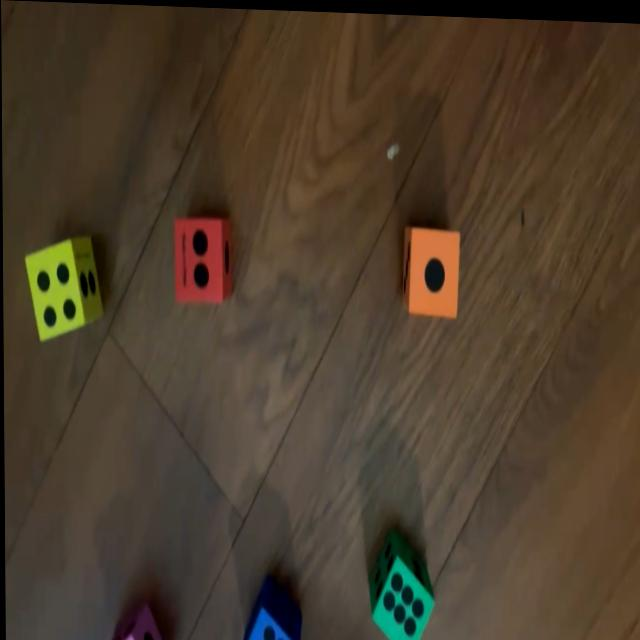cube: (366, 532, 431, 640), (174, 212, 235, 301), (240, 577, 303, 640)
